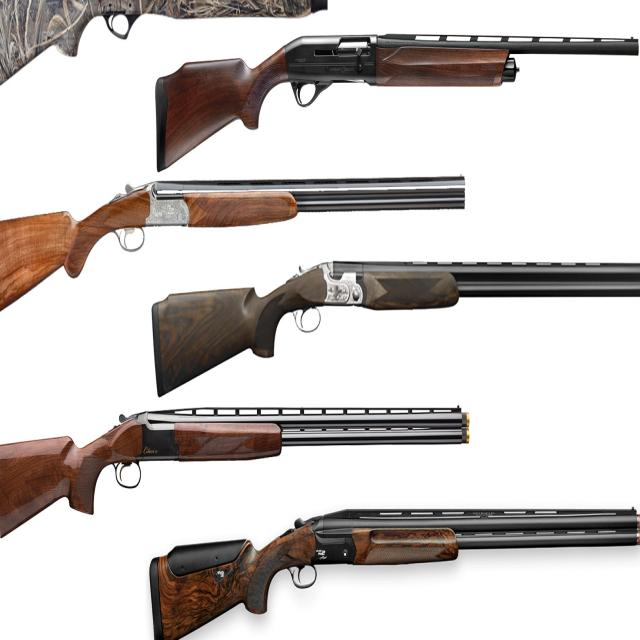Weapon: (155, 35, 639, 170), (152, 261, 640, 394), (150, 509, 640, 640), (0, 176, 464, 310), (0, 408, 469, 536), (0, 0, 326, 85)
